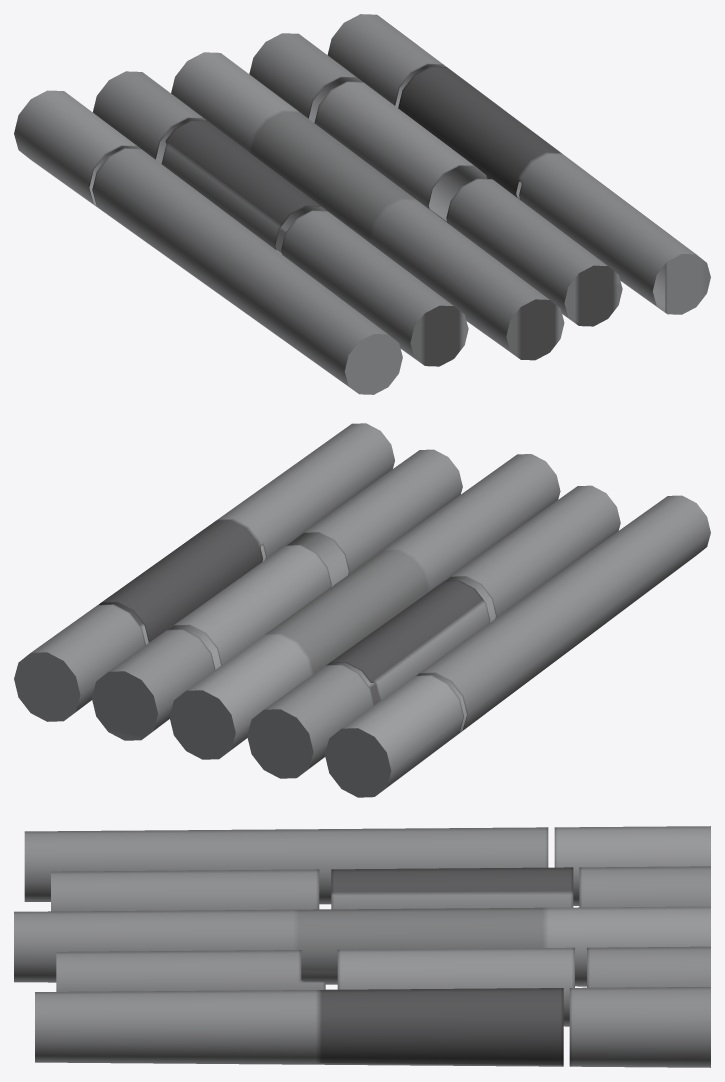
3 renders of one model, top to bottom at view 1: azimuth 30°, elevation 25°; view 2: azimuth 150°, elevation 25°; view 3: azimuth 270°, elevation 25°, orthographic. The views are drawn at different scales.
Size of the model in its own units: 0.874 by 0.154 by 1.32.
